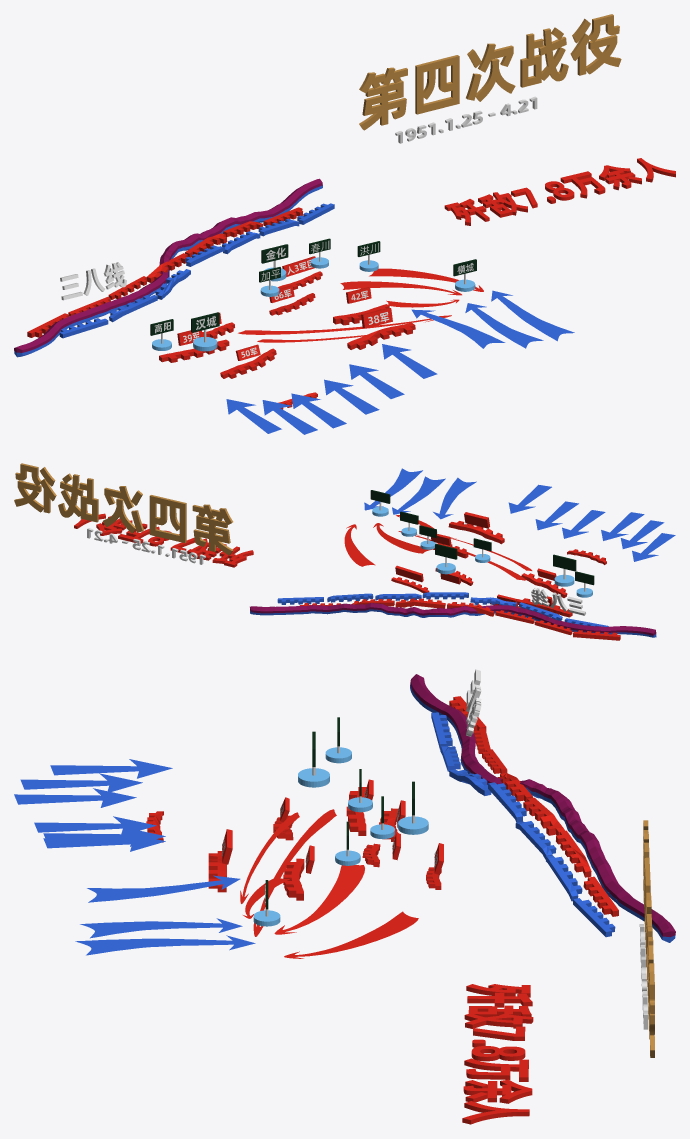
The model's file is 4-animate.glb.
3 renders of one model, top to bottom at view 1: azimuth 30°, elevation 25°; view 2: azimuth 150°, elevation 25°; view 3: azimuth 270°, elevation 25°, orthographic. The views are drawn at different scales.
Visible parts, largest first — view 1: 文本.020, 38line, 文本.029, 文本.021, 文本.016, 箭头.020, 箭头.019, 箭头.021, 柱体.010, 贝塞尔曲线.021, 贝塞尔曲线.087, 贝塞尔曲线.091 (+2 smaller); view 2: 文本.020, 38line, 文本.029, 文本.021, 文本.016, 柱体.010, 箭头.021, 箭头.019, 箭头.020, 贝塞尔曲线.021, 柱体.020, 贝塞尔曲线.087 (+20 smaller); view 3: 文本.029, 38line, 文本.020, 箭头.020, 箭头.019, 箭头.021, 贝塞尔曲线.089, 贝塞尔曲线.087, 箭头.015, 箭头.018, 箭头.012, 箭头.014 (+11 smaller).
Part boxes in pixels (left/top/right/bottom): 文本.020: left=359, top=14, right=621, bottom=130; 38line: left=14, top=178, right=322, bottom=357; 文本.029: left=444, top=158, right=675, bottom=225; 文本.021: left=395, top=96, right=537, bottom=143; 文本.016: left=60, top=262, right=126, bottom=300; 箭头.020: left=491, top=290, right=574, bottom=341; 箭头.019: left=465, top=303, right=543, bottom=348; 箭头.021: left=411, top=309, right=505, bottom=348; 柱体.010: left=191, top=312, right=219, bottom=351; 贝塞尔曲线.021: left=347, top=322, right=415, bottom=349; 贝塞尔曲线.087: left=369, top=268, right=483, bottom=291; 贝塞尔曲线.091: left=238, top=315, right=451, bottom=334; 文本.020: left=14, top=463, right=233, bottom=555; 38line: left=250, top=603, right=656, bottom=637; 文本.029: left=74, top=511, right=253, bottom=567; 文本.021: left=87, top=528, right=205, bottom=564; 文本.016: left=531, top=587, right=585, bottom=615; 柱体.010: left=553, top=554, right=576, bottom=586; 箭头.021: left=433, top=477, right=476, bottom=519; 箭头.019: left=392, top=476, right=445, bottom=514; 箭头.020: left=364, top=468, right=422, bottom=510; 贝塞尔曲线.021: left=448, top=521, right=504, bottom=544; 柱体.020: left=435, top=543, right=457, bottom=574; 贝塞尔曲线.087: left=344, top=524, right=375, bottom=566; 文本.029: left=462, top=984, right=533, bottom=1124; 38line: left=410, top=674, right=675, bottom=942; 文本.020: left=643, top=820, right=654, bottom=1057; 箭头.020: left=75, top=935, right=255, bottom=955; 箭头.019: left=80, top=918, right=242, bottom=938; 箭头.021: left=87, top=875, right=240, bottom=902; 贝塞尔曲线.089: left=274, top=865, right=364, bottom=934; 贝塞尔曲线.087: left=284, top=911, right=418, bottom=958; 箭头.015: left=14, top=788, right=136, bottom=807; 箭头.018: left=43, top=832, right=165, bottom=851; 箭头.012: left=50, top=759, right=172, bottom=778; 箭头.014: left=20, top=773, right=142, bottom=791.
Size of what is drawn, in the model's own units: 52.5 by 9.97 by 32.71.
